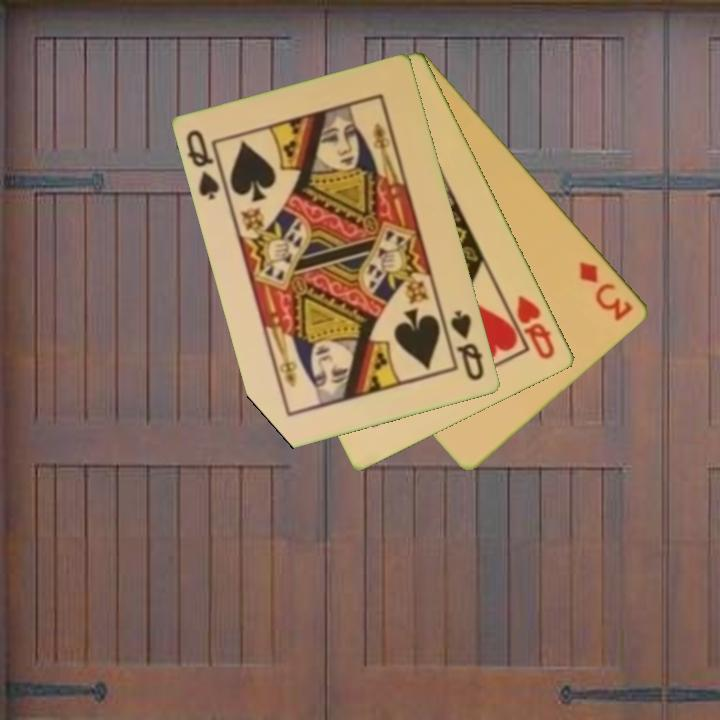3d: (575, 258, 637, 324)
Qh: (513, 291, 559, 363)
Qs: (183, 126, 231, 204), (447, 306, 488, 384)
